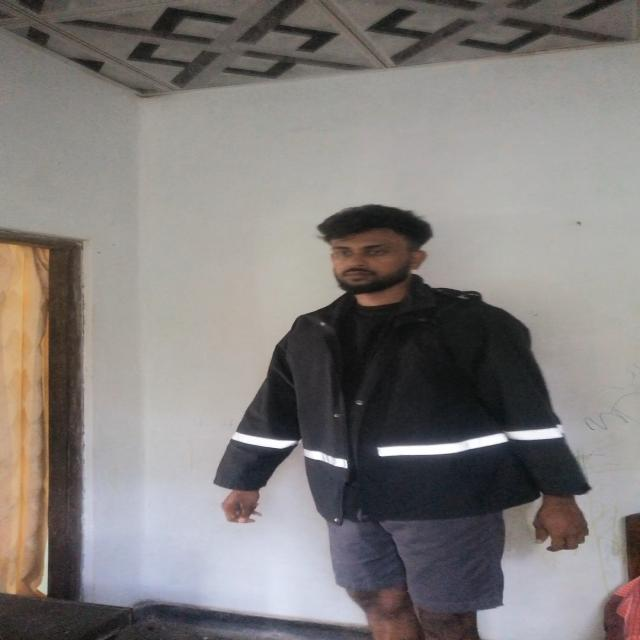Jacket_Wearer: (231, 280, 587, 517)
